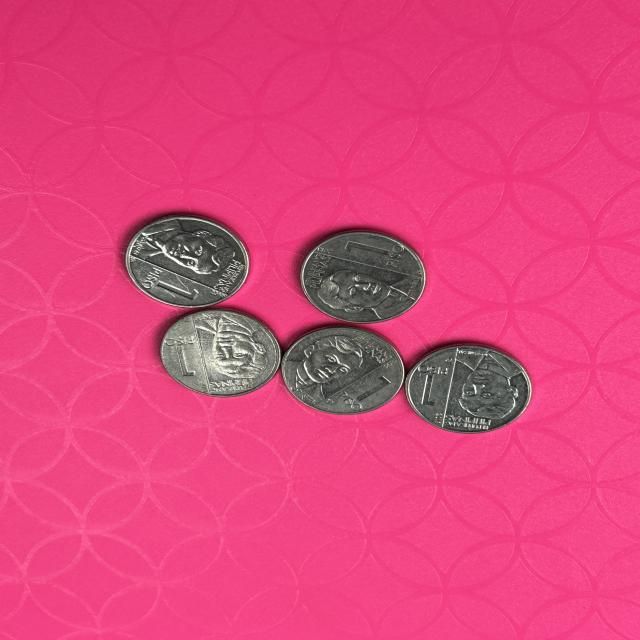1_New_Front: (133, 264, 197, 308), (337, 238, 409, 274), (337, 369, 405, 406), (163, 331, 197, 387), (418, 359, 444, 417)
